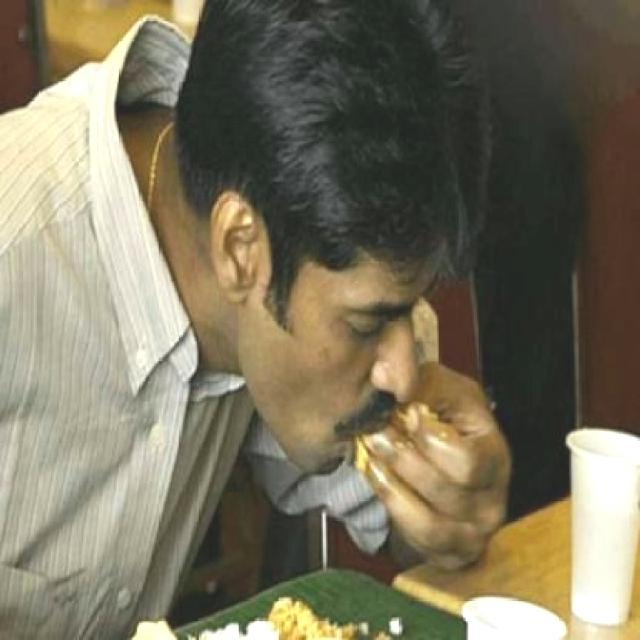face_nomask: (255, 238, 417, 450)
hand_noglove: (376, 365, 524, 566)
head_nohelmet: (248, 15, 508, 286)
person: (0, 26, 613, 640)
